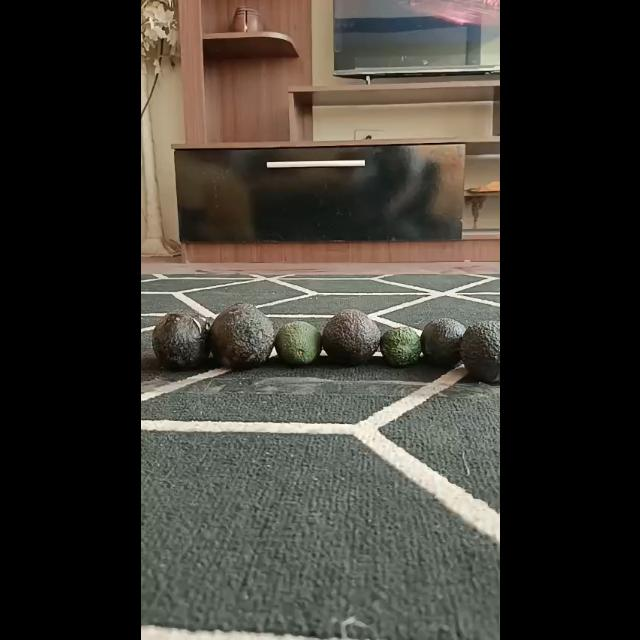Primera: (207, 302, 275, 370), (151, 308, 211, 370), (320, 309, 380, 365), (458, 321, 500, 384)
Segunda: (420, 318, 466, 367), (274, 321, 320, 365)
Tercera: (378, 325, 422, 367)
